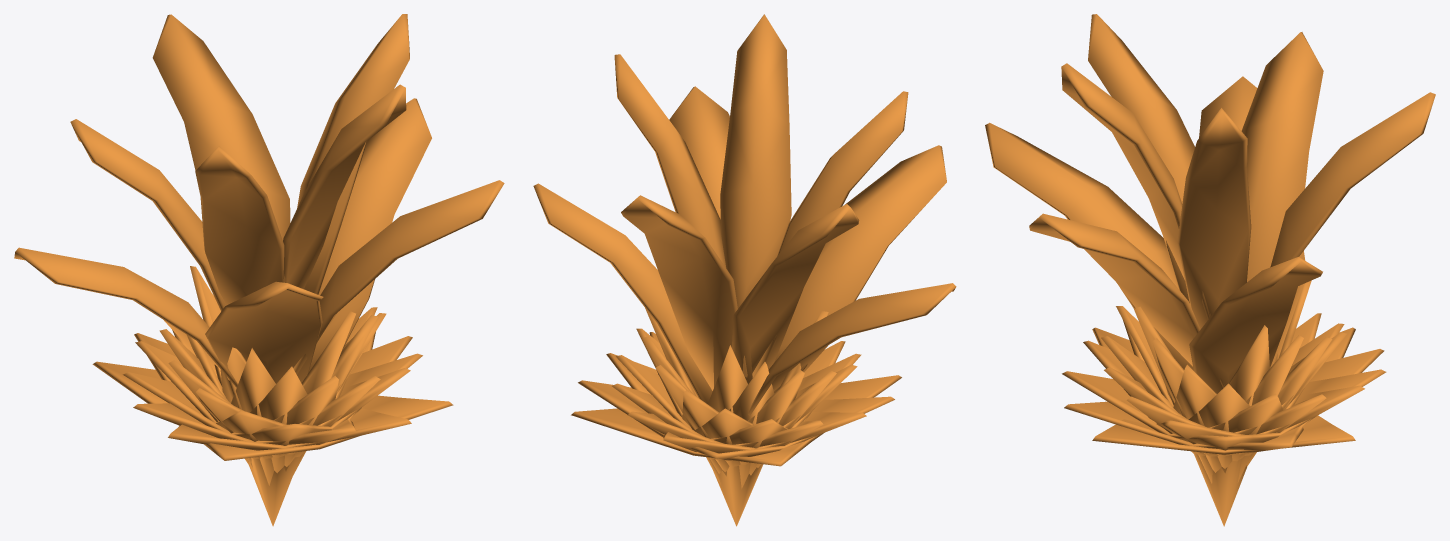
3 views of the same model, side by side, from view 1: azimuth 30°, elevation 25°; view 2: azimuth 150°, elevation 25°; view 3: azimuth 270°, elevation 25° (orthographic). The views are drawn at different scales.
Parts seen in each view (by area): view 1: Low-Poly_Plant__001.002; view 2: Low-Poly_Plant__001.002; view 3: Low-Poly_Plant__001.002.
Part boxes in pixels (x1,y1,x2,y2): Low-Poly_Plant__001.002: (14,14,504,526); Low-Poly_Plant__001.002: (533,14,956,526); Low-Poly_Plant__001.002: (985,14,1435,526).
Bounding box in the file's own units: 1.05 × 0.9486 × 1.13.
